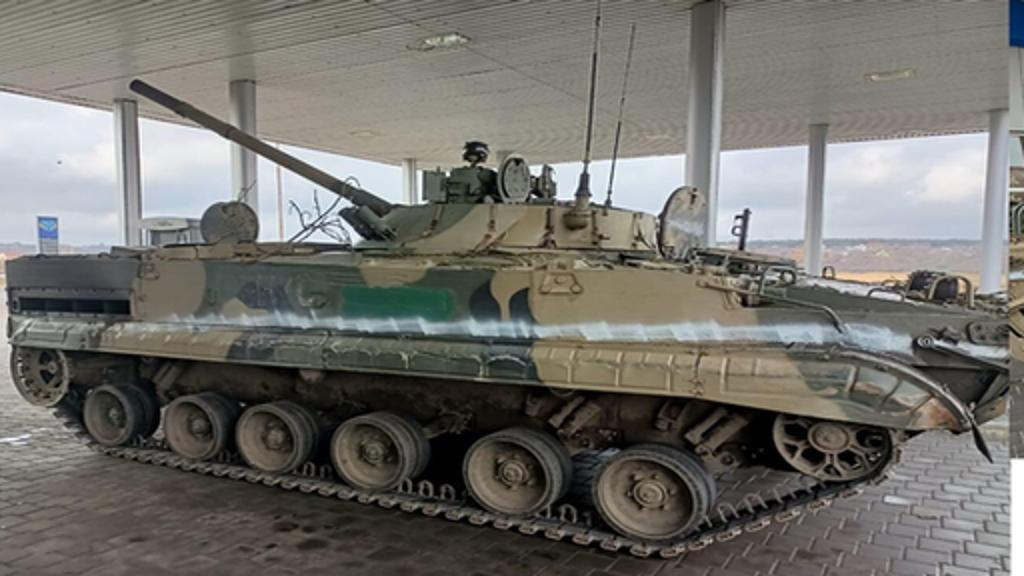APC-IFV: (2, 74, 1006, 556)
